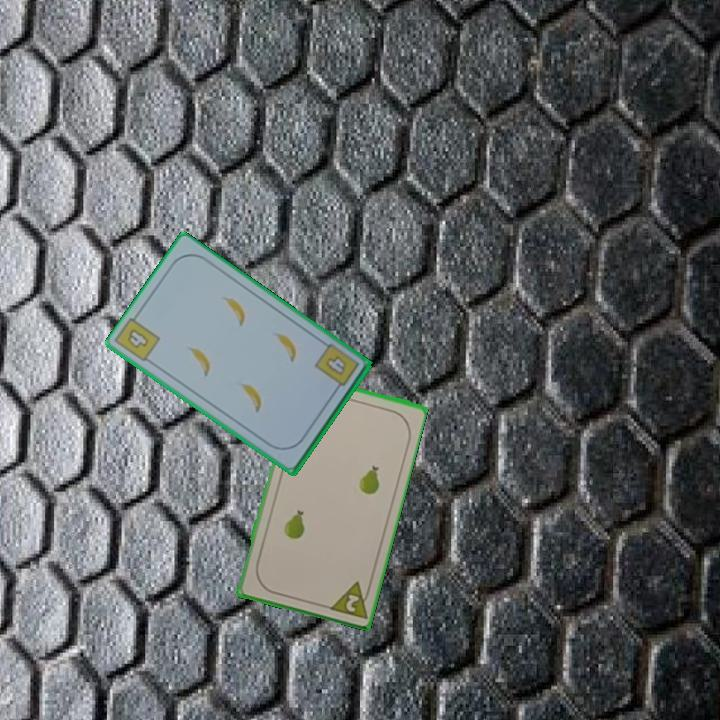2p: (325, 577, 374, 621)
4b: (311, 342, 362, 396), (123, 325, 151, 352)
